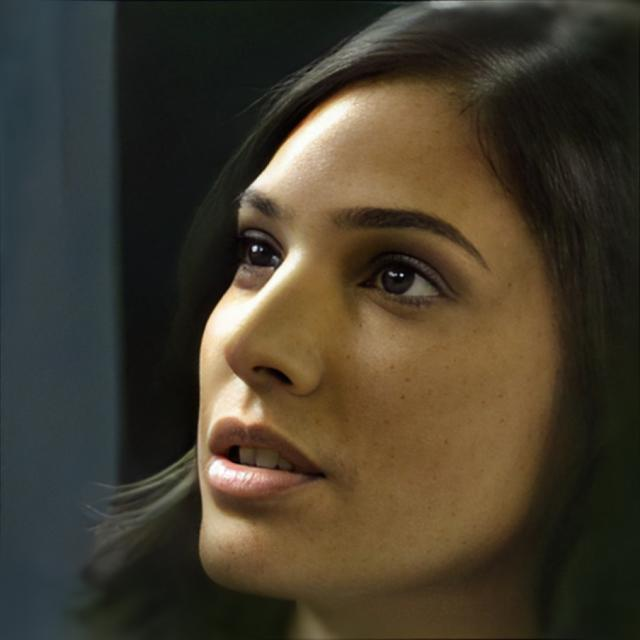surprise: (191, 60, 566, 596)
